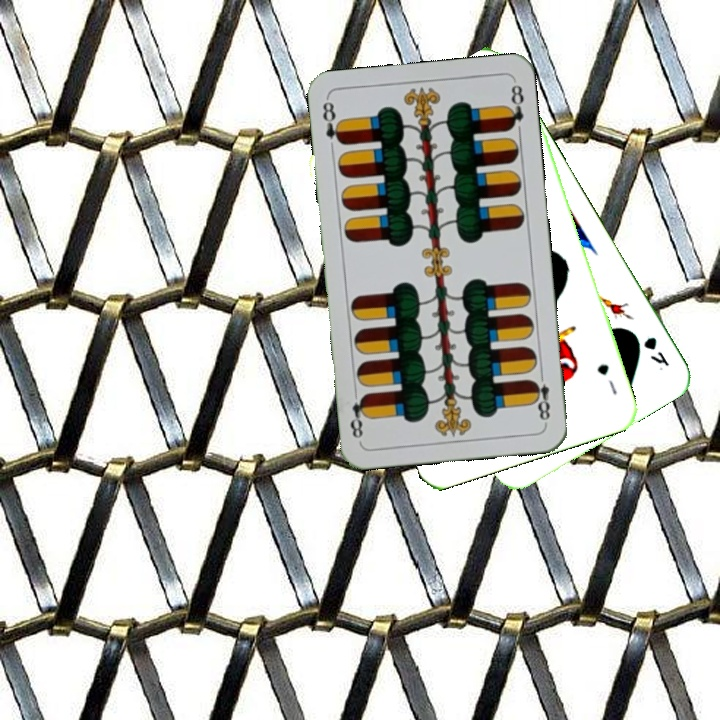E8: (318, 96, 346, 147), (528, 367, 552, 426)
GK: (639, 332, 672, 369)
GU: (593, 360, 620, 398)
